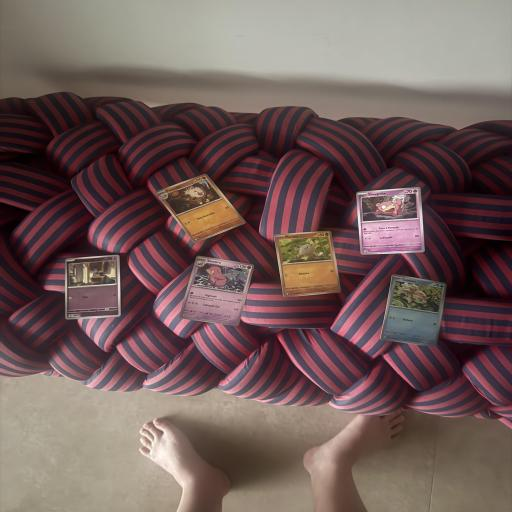card: (154, 159, 248, 257), (178, 248, 257, 335), (274, 226, 341, 302), (380, 274, 447, 348), (356, 186, 425, 256), (65, 255, 121, 320)
